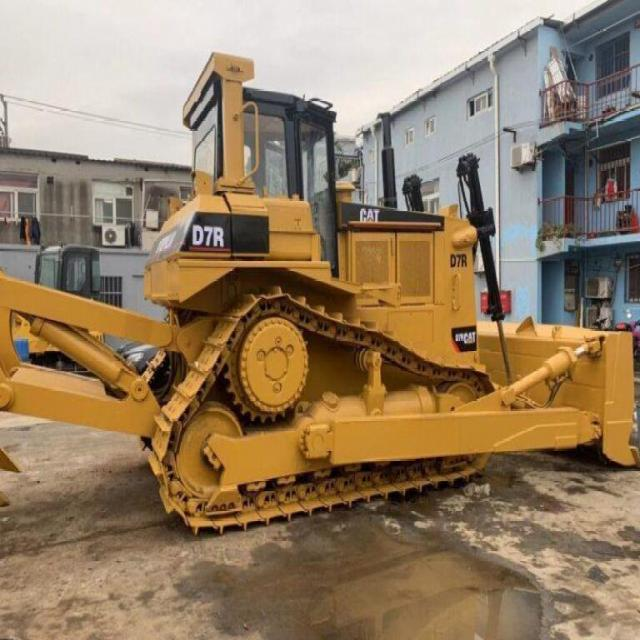Bulldozer: (16, 38, 639, 541)
